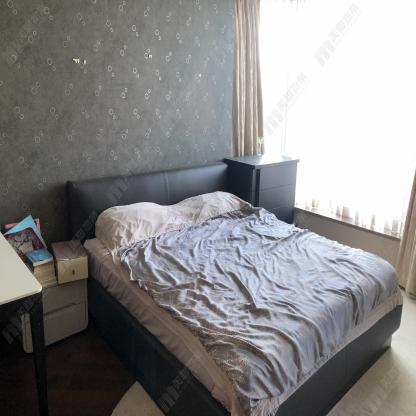Bed: (70, 160, 404, 416)
